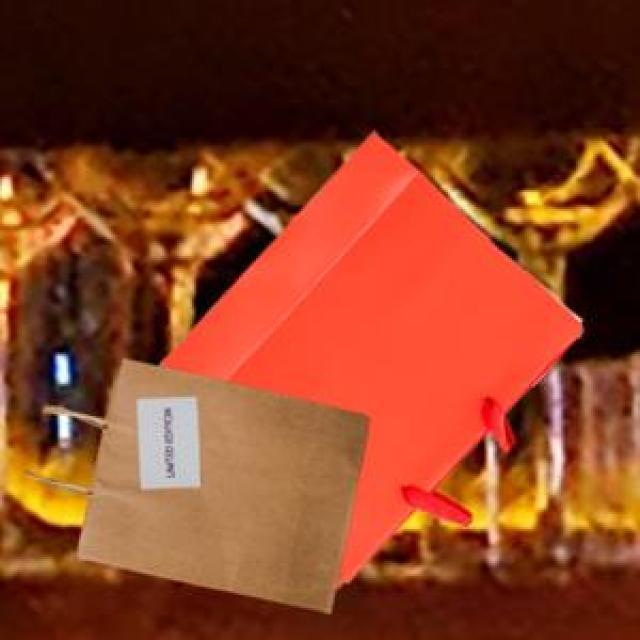paper: (156, 128, 578, 582), (28, 354, 365, 608)
